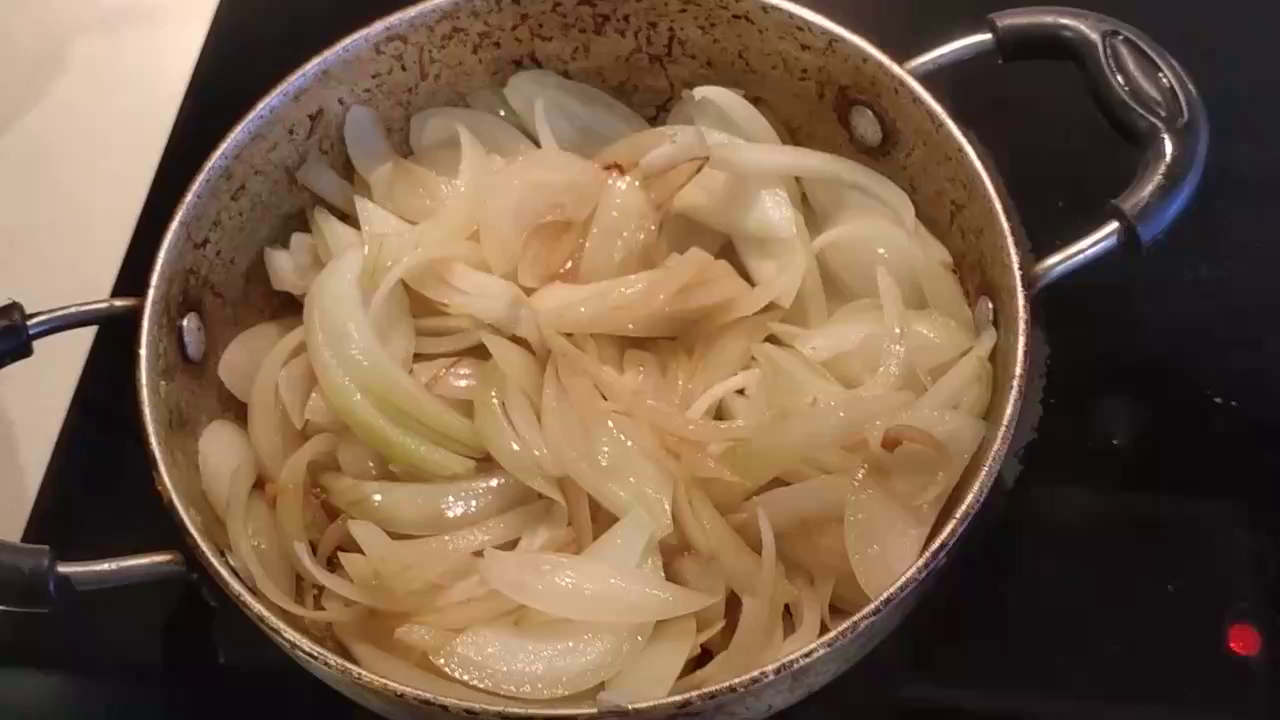Raw: (314, 173, 843, 583)
